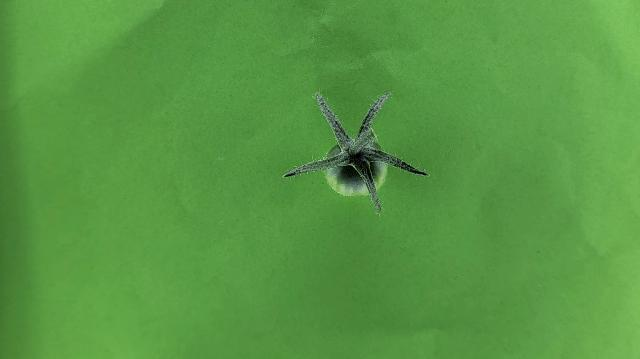Fruit Maturation: (324, 142, 389, 196)
